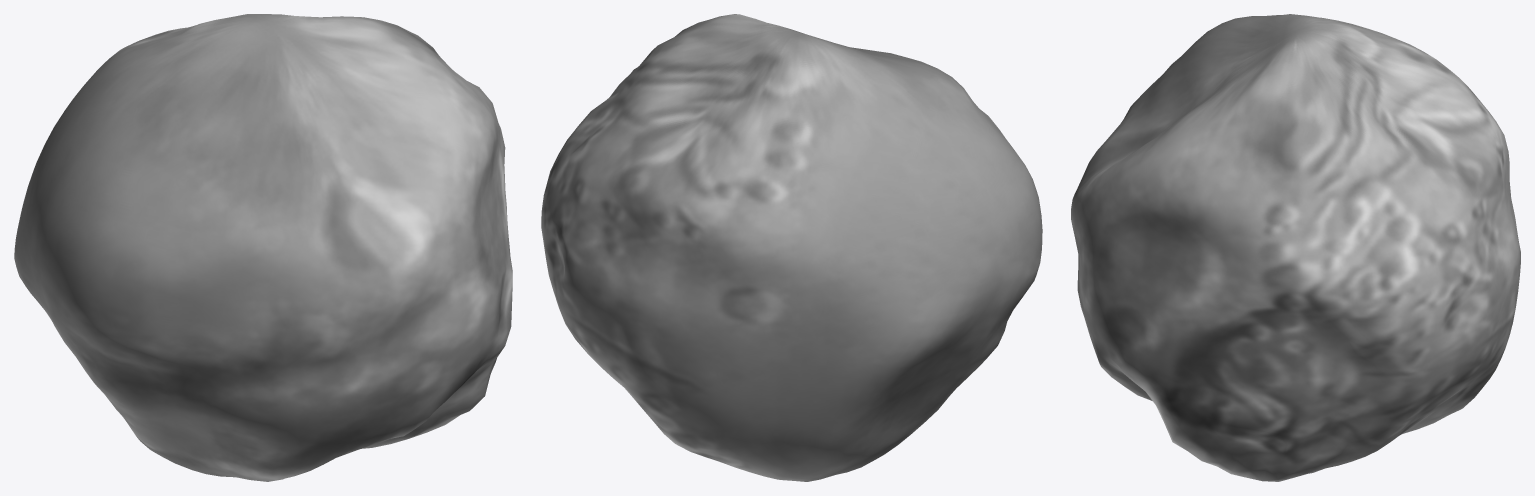
The model's file is proteus.glb.
3 renders of one model, left to right at view 1: azimuth 30°, elevation 25°; view 2: azimuth 150°, elevation 25°; view 3: azimuth 270°, elevation 25°, orthographic. The views are drawn at different scales.
Visible parts, largest first — view 1: Proteus; view 2: Proteus; view 3: Proteus.
Part boxes in pixels (x1,y1,x2,y2): Proteus: [14, 14, 512, 481]; Proteus: [541, 14, 1042, 481]; Proteus: [1071, 14, 1520, 481].
Size of the model in its own units: 1.96 by 1.83 by 1.8.
Materials: 1 (1 with a texture image).
